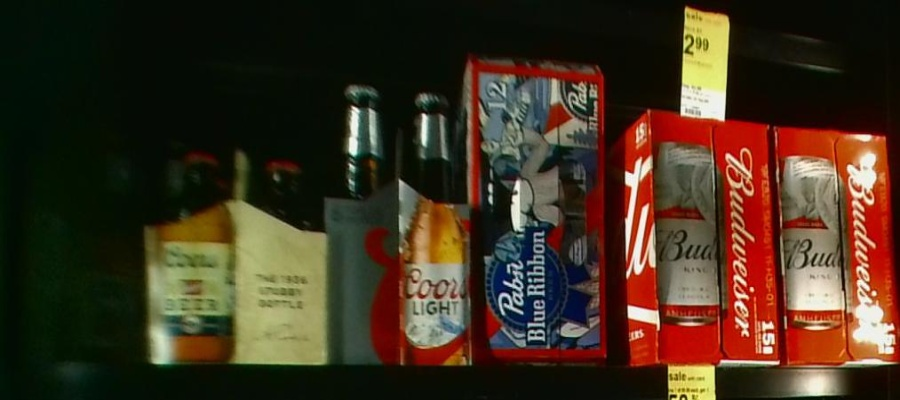bottle: (471, 47, 610, 367), (142, 132, 326, 364), (327, 81, 472, 364), (617, 107, 773, 358), (774, 114, 899, 373), (9, 113, 140, 353)
